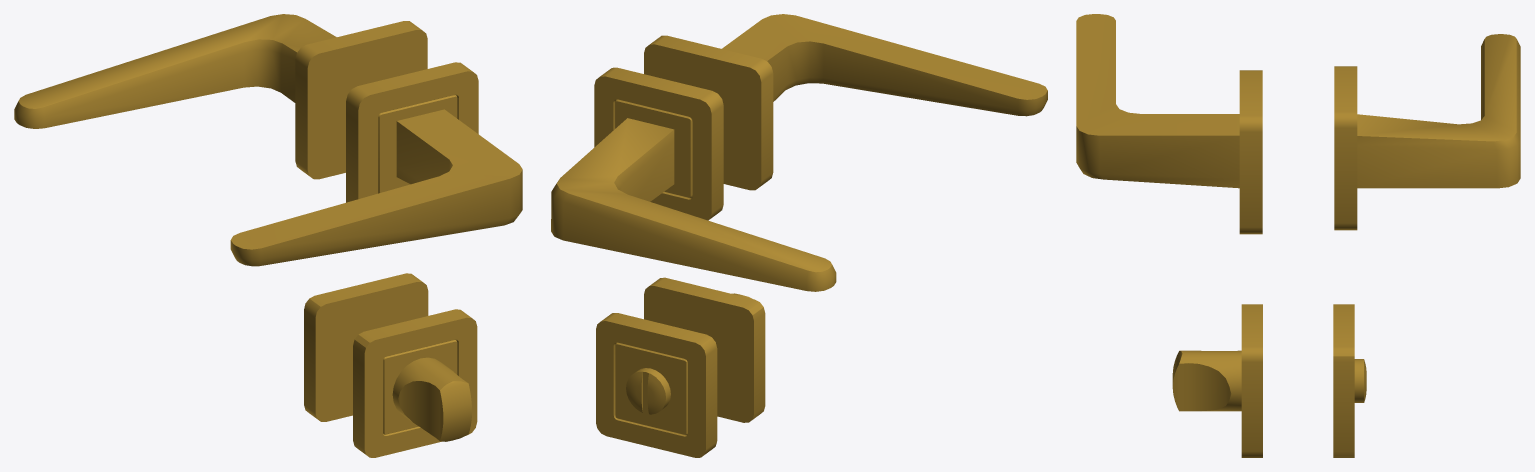
Rendered from 27_BOSTON_Brnak.glb.
The picture shows the model from 3 angles, left to right: view 1: azimuth 30°, elevation 25°; view 2: azimuth 150°, elevation 25°; view 3: azimuth 270°, elevation 25°; orthographic projection. The views are drawn at different scales.
Visible parts, largest first — view 1: 27_BOSTON_Brnak; view 2: 27_BOSTON_Brnak; view 3: 27_BOSTON_Brnak.
Boxes of the visible parts, x1,y1,x2,y2 form: 27_BOSTON_Brnak: [14, 14, 522, 457]; 27_BOSTON_Brnak: [551, 14, 1047, 457]; 27_BOSTON_Brnak: [1076, 14, 1520, 457].
Size of the model in its own units: 0.1735 by 0.1911 by 0.2229.
